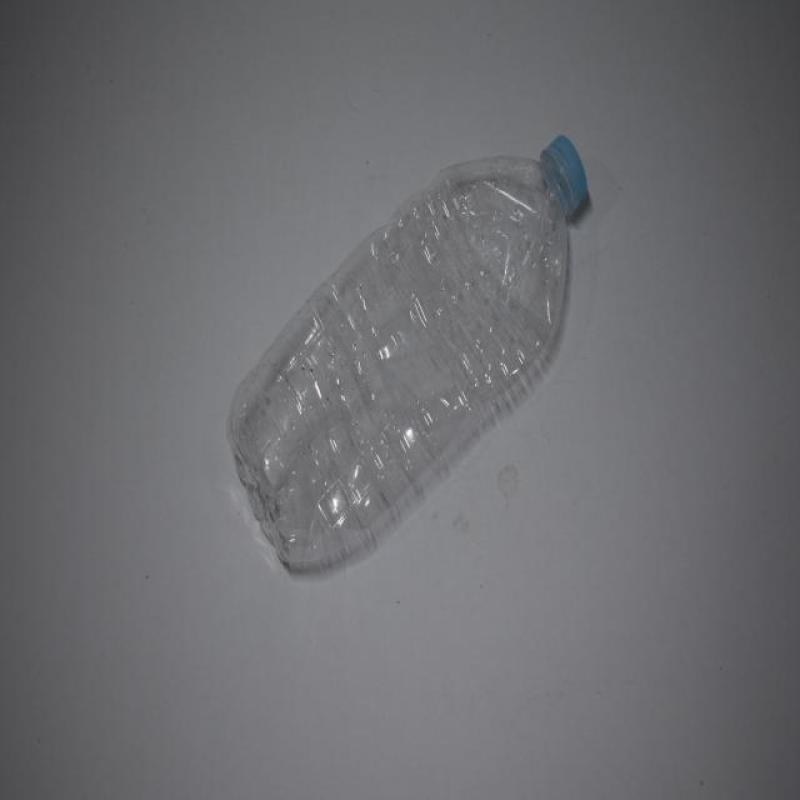botella: (226, 135, 592, 577)
